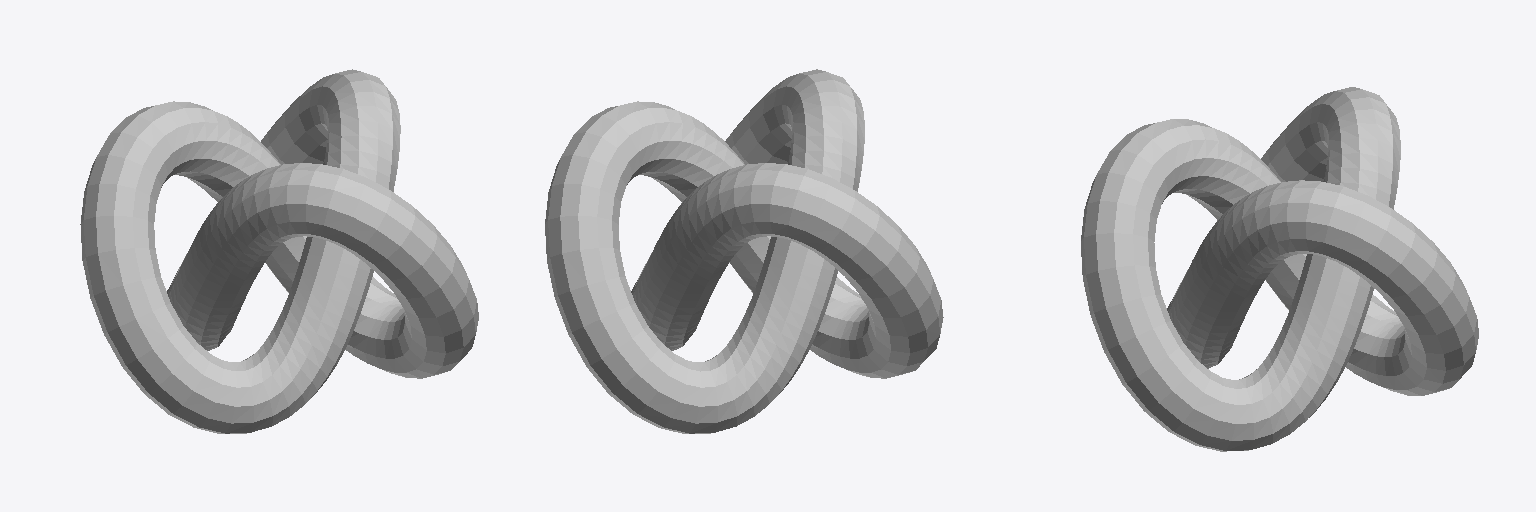
The model's file is CornellKnot.obj.
The picture shows the model from 3 angles: view 1: azimuth 30°, elevation 25°; view 2: azimuth 150°, elevation 25°; view 3: azimuth 270°, elevation 25°; orthographic projection.
Parts seen in each view (by area): view 1: Torus_Knot001; view 2: Torus_Knot001; view 3: Torus_Knot001.
Part boxes in pixels (bbox=[...]): Torus_Knot001: bbox=[80, 69, 478, 433]; Torus_Knot001: bbox=[545, 69, 943, 433]; Torus_Knot001: bbox=[1081, 87, 1478, 451].
Bounding box in the file's own units: 2.96 × 2.29 × 3.14.